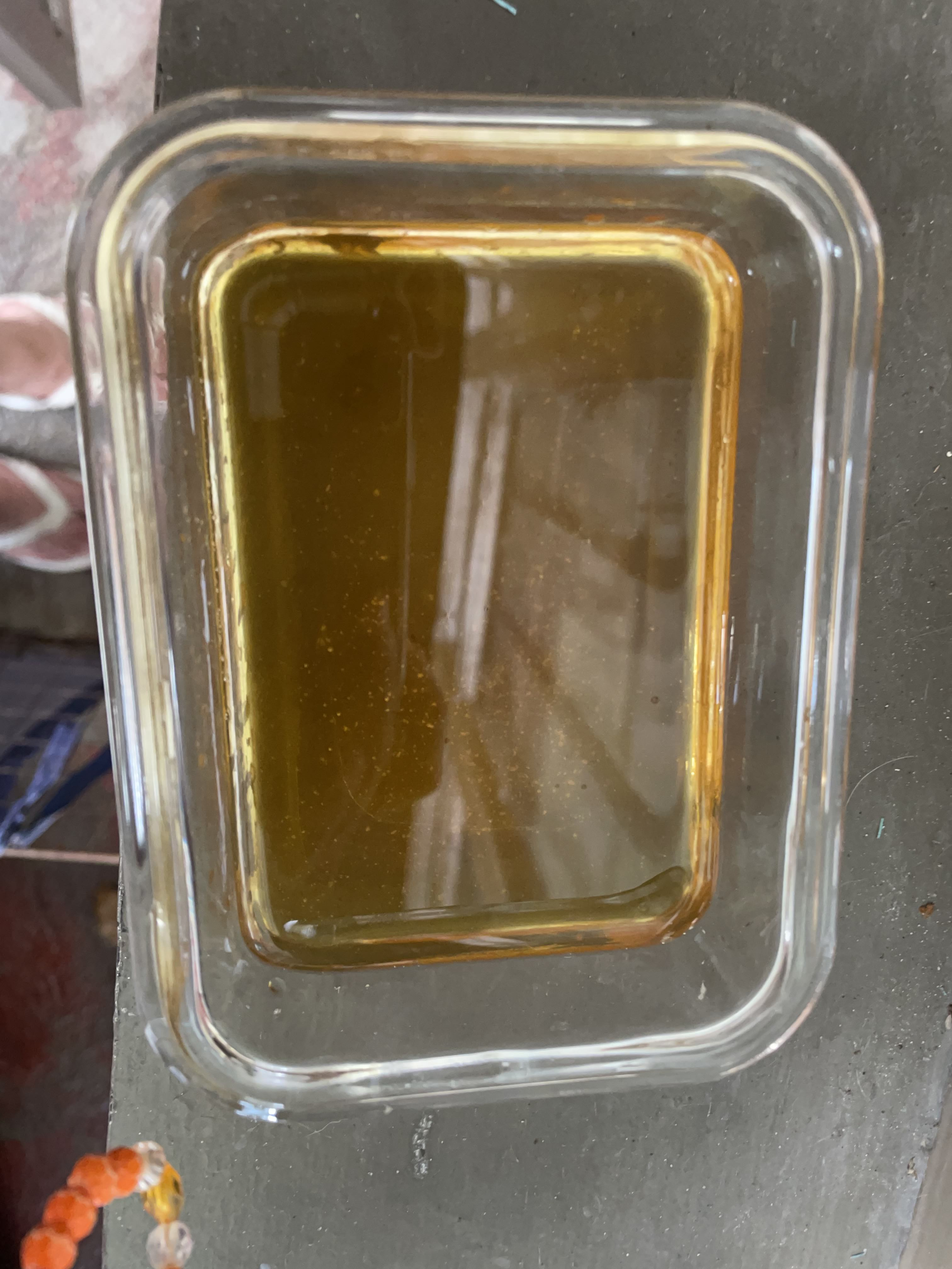reusable: (195, 217, 743, 969)
